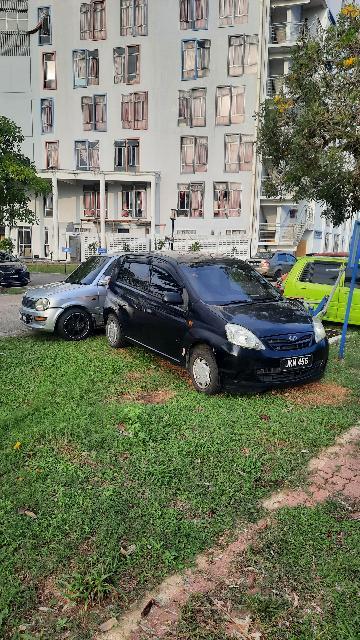License_Plate: (281, 355, 315, 371)
car: (105, 254, 334, 397), (23, 254, 150, 337), (283, 253, 360, 334)
